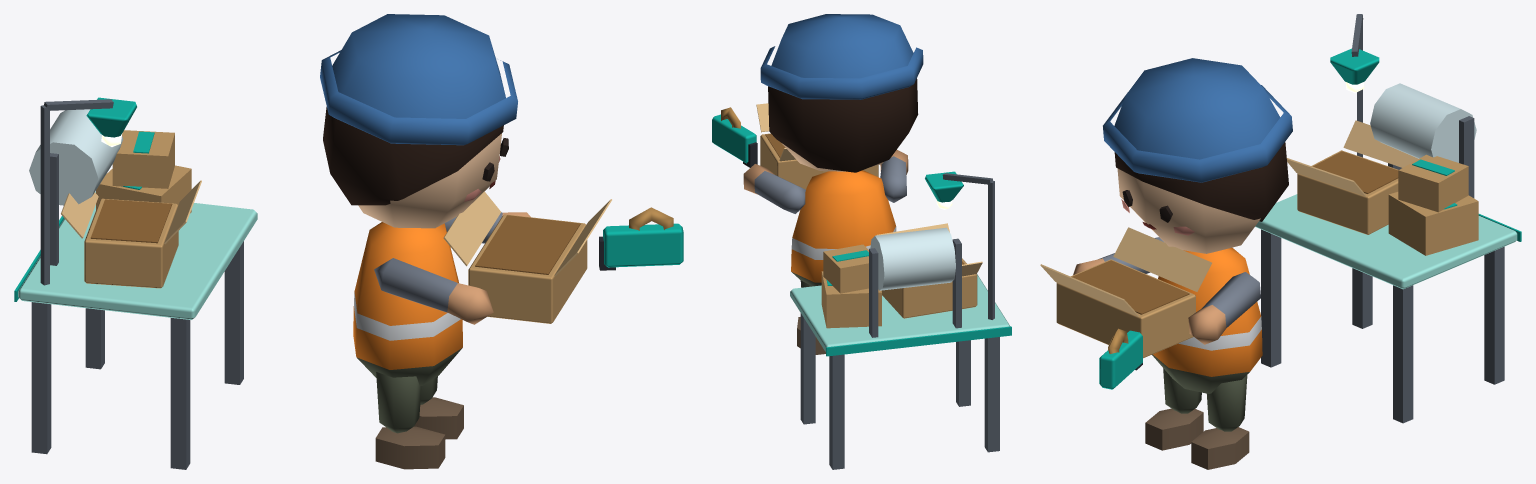
File: station_processing_ausstattung_2_3.glb
3 renders of one model, left to right at view 1: azimuth 30°, elevation 25°; view 2: azimuth 150°, elevation 25°; view 3: azimuth 270°, elevation 25°, orthographic. The views are drawn at different scales.
Visible parts, largest first — view 1: station_processing_ausstattung_2_3; view 2: station_processing_ausstattung_2_3; view 3: station_processing_ausstattung_2_3.
Boxes of the visible parts, x1,y1,x2,y2 form: station_processing_ausstattung_2_3: [14, 14, 683, 469]; station_processing_ausstattung_2_3: [712, 14, 1011, 469]; station_processing_ausstattung_2_3: [1040, 14, 1521, 469].
Bounding box in the file's own units: 1.52 × 1.15 × 1.34.
